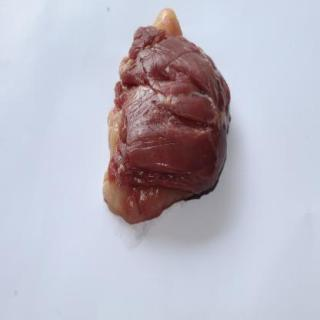Daging Sapi: (103, 10, 231, 227)
